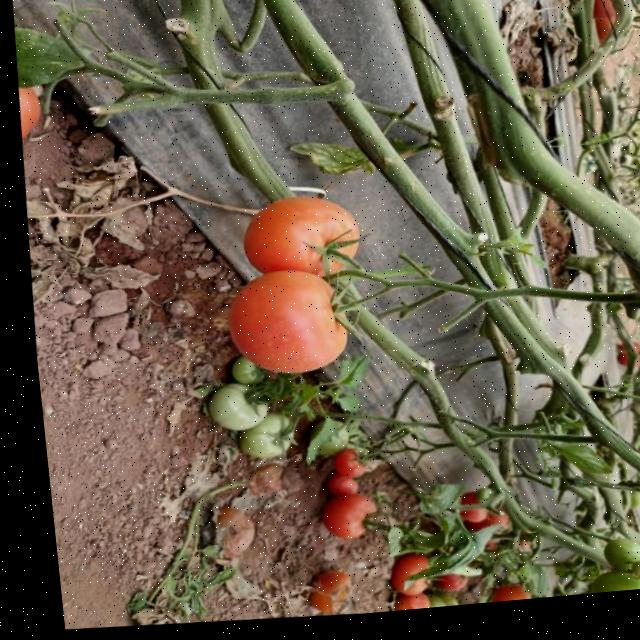Ripe Tomato: (211, 272, 353, 380), (230, 193, 357, 290), (300, 496, 369, 553), (371, 556, 427, 604), (13, 73, 42, 138), (293, 576, 337, 616), (443, 494, 480, 539), (586, 0, 631, 32), (319, 454, 361, 481), (312, 476, 353, 503), (470, 591, 517, 611), (604, 351, 636, 380), (422, 577, 460, 601), (379, 597, 416, 617), (624, 554, 640, 600), (468, 541, 500, 564), (473, 516, 500, 539)
Unripe Tomato: (217, 412, 290, 469), (189, 383, 261, 437), (583, 545, 639, 589), (567, 578, 640, 604), (215, 362, 270, 390), (630, 351, 640, 374)
